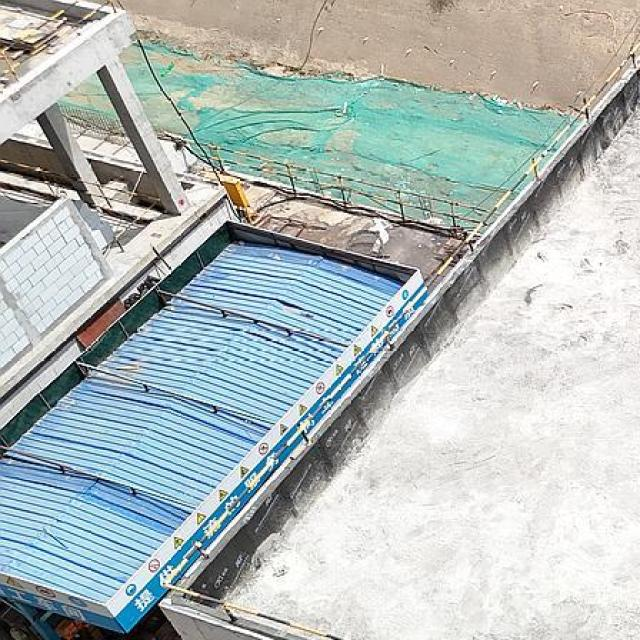Guardrail: (160, 40, 640, 640), (165, 132, 502, 227), (0, 0, 127, 84), (0, 157, 161, 209), (100, 201, 156, 252)
